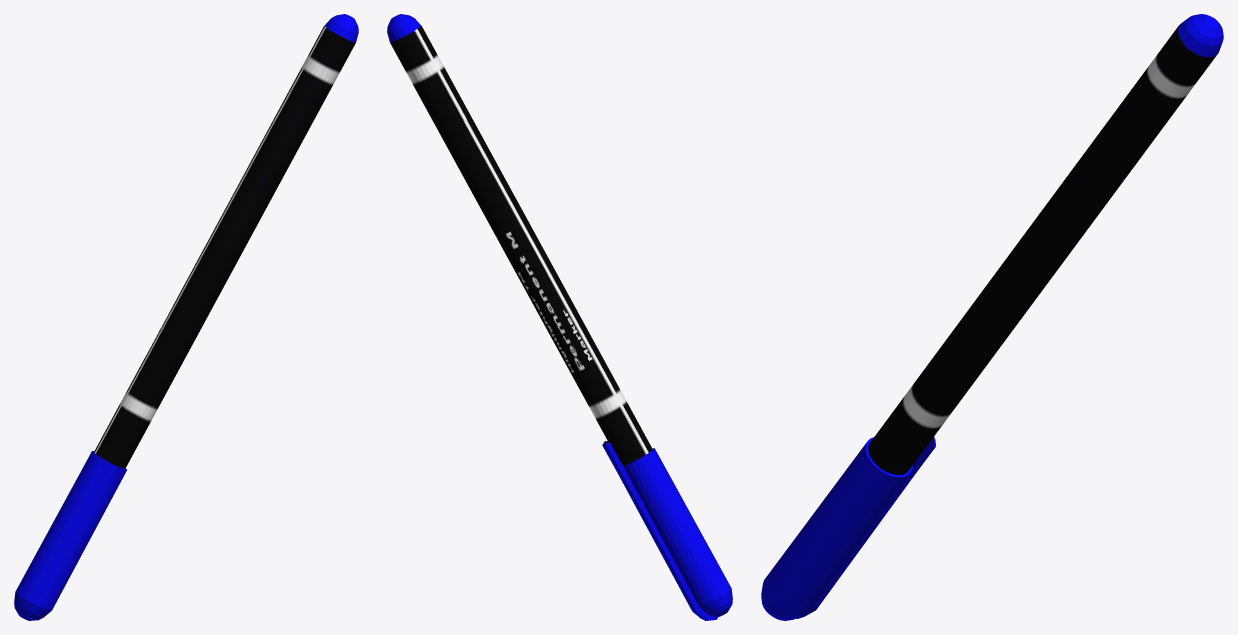
The model's file is Marker2.fbx.
3 views of the same model, side by side, from view 1: azimuth 30°, elevation 25°; view 2: azimuth 150°, elevation 25°; view 3: azimuth 330°, elevation 25° (orthographic). The views are drawn at different scales.
Parts seen in each view (by area): view 1: Export Marker 2; view 2: Export Marker 2; view 3: Export Marker 2.
Part boxes in pixels (x1,y1,x2,y2): Export Marker 2: (14, 14, 358, 620); Export Marker 2: (387, 14, 732, 620); Export Marker 2: (761, 14, 1223, 620).
Bounding box in the file's own units: 8.22 × 12.2 × 0.9145.
